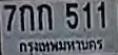1: (82, 1, 90, 28), (97, 1, 104, 27)
5: (65, 2, 77, 28)
7: (3, 4, 15, 30)
A01: (36, 3, 51, 30), (19, 3, 33, 30)
BKK: (17, 37, 105, 55)
